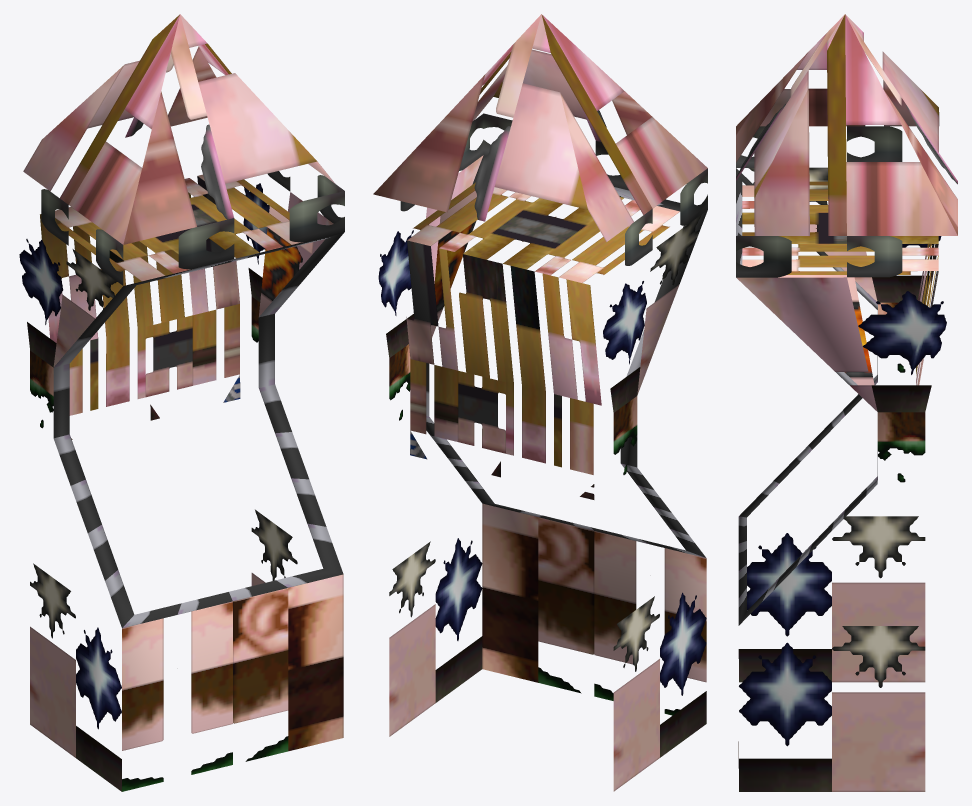
The picture shows the model from 3 angles, left to right: view 1: azimuth 30°, elevation 25°; view 2: azimuth 150°, elevation 25°; view 3: azimuth 270°, elevation 25°; orthographic projection.
Visible parts, largest first — view 1: T1L9M004_14; view 2: T1L9M004_14; view 3: T1L9M004_14.
Part boxes in pixels (x1=…): T1L9M004_14: x1=19, y1=14, x2=344, y2=791; T1L9M004_14: x1=373, y1=14, x2=707, y2=791; T1L9M004_14: x1=736, y1=14, x2=957, y2=791.
Size of the model in its own units: 2.28 by 7 by 1.95.
